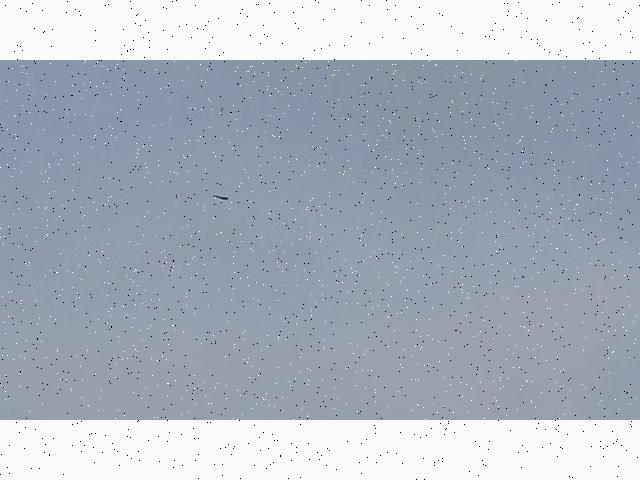Anti-Drone: (210, 191, 230, 203)
